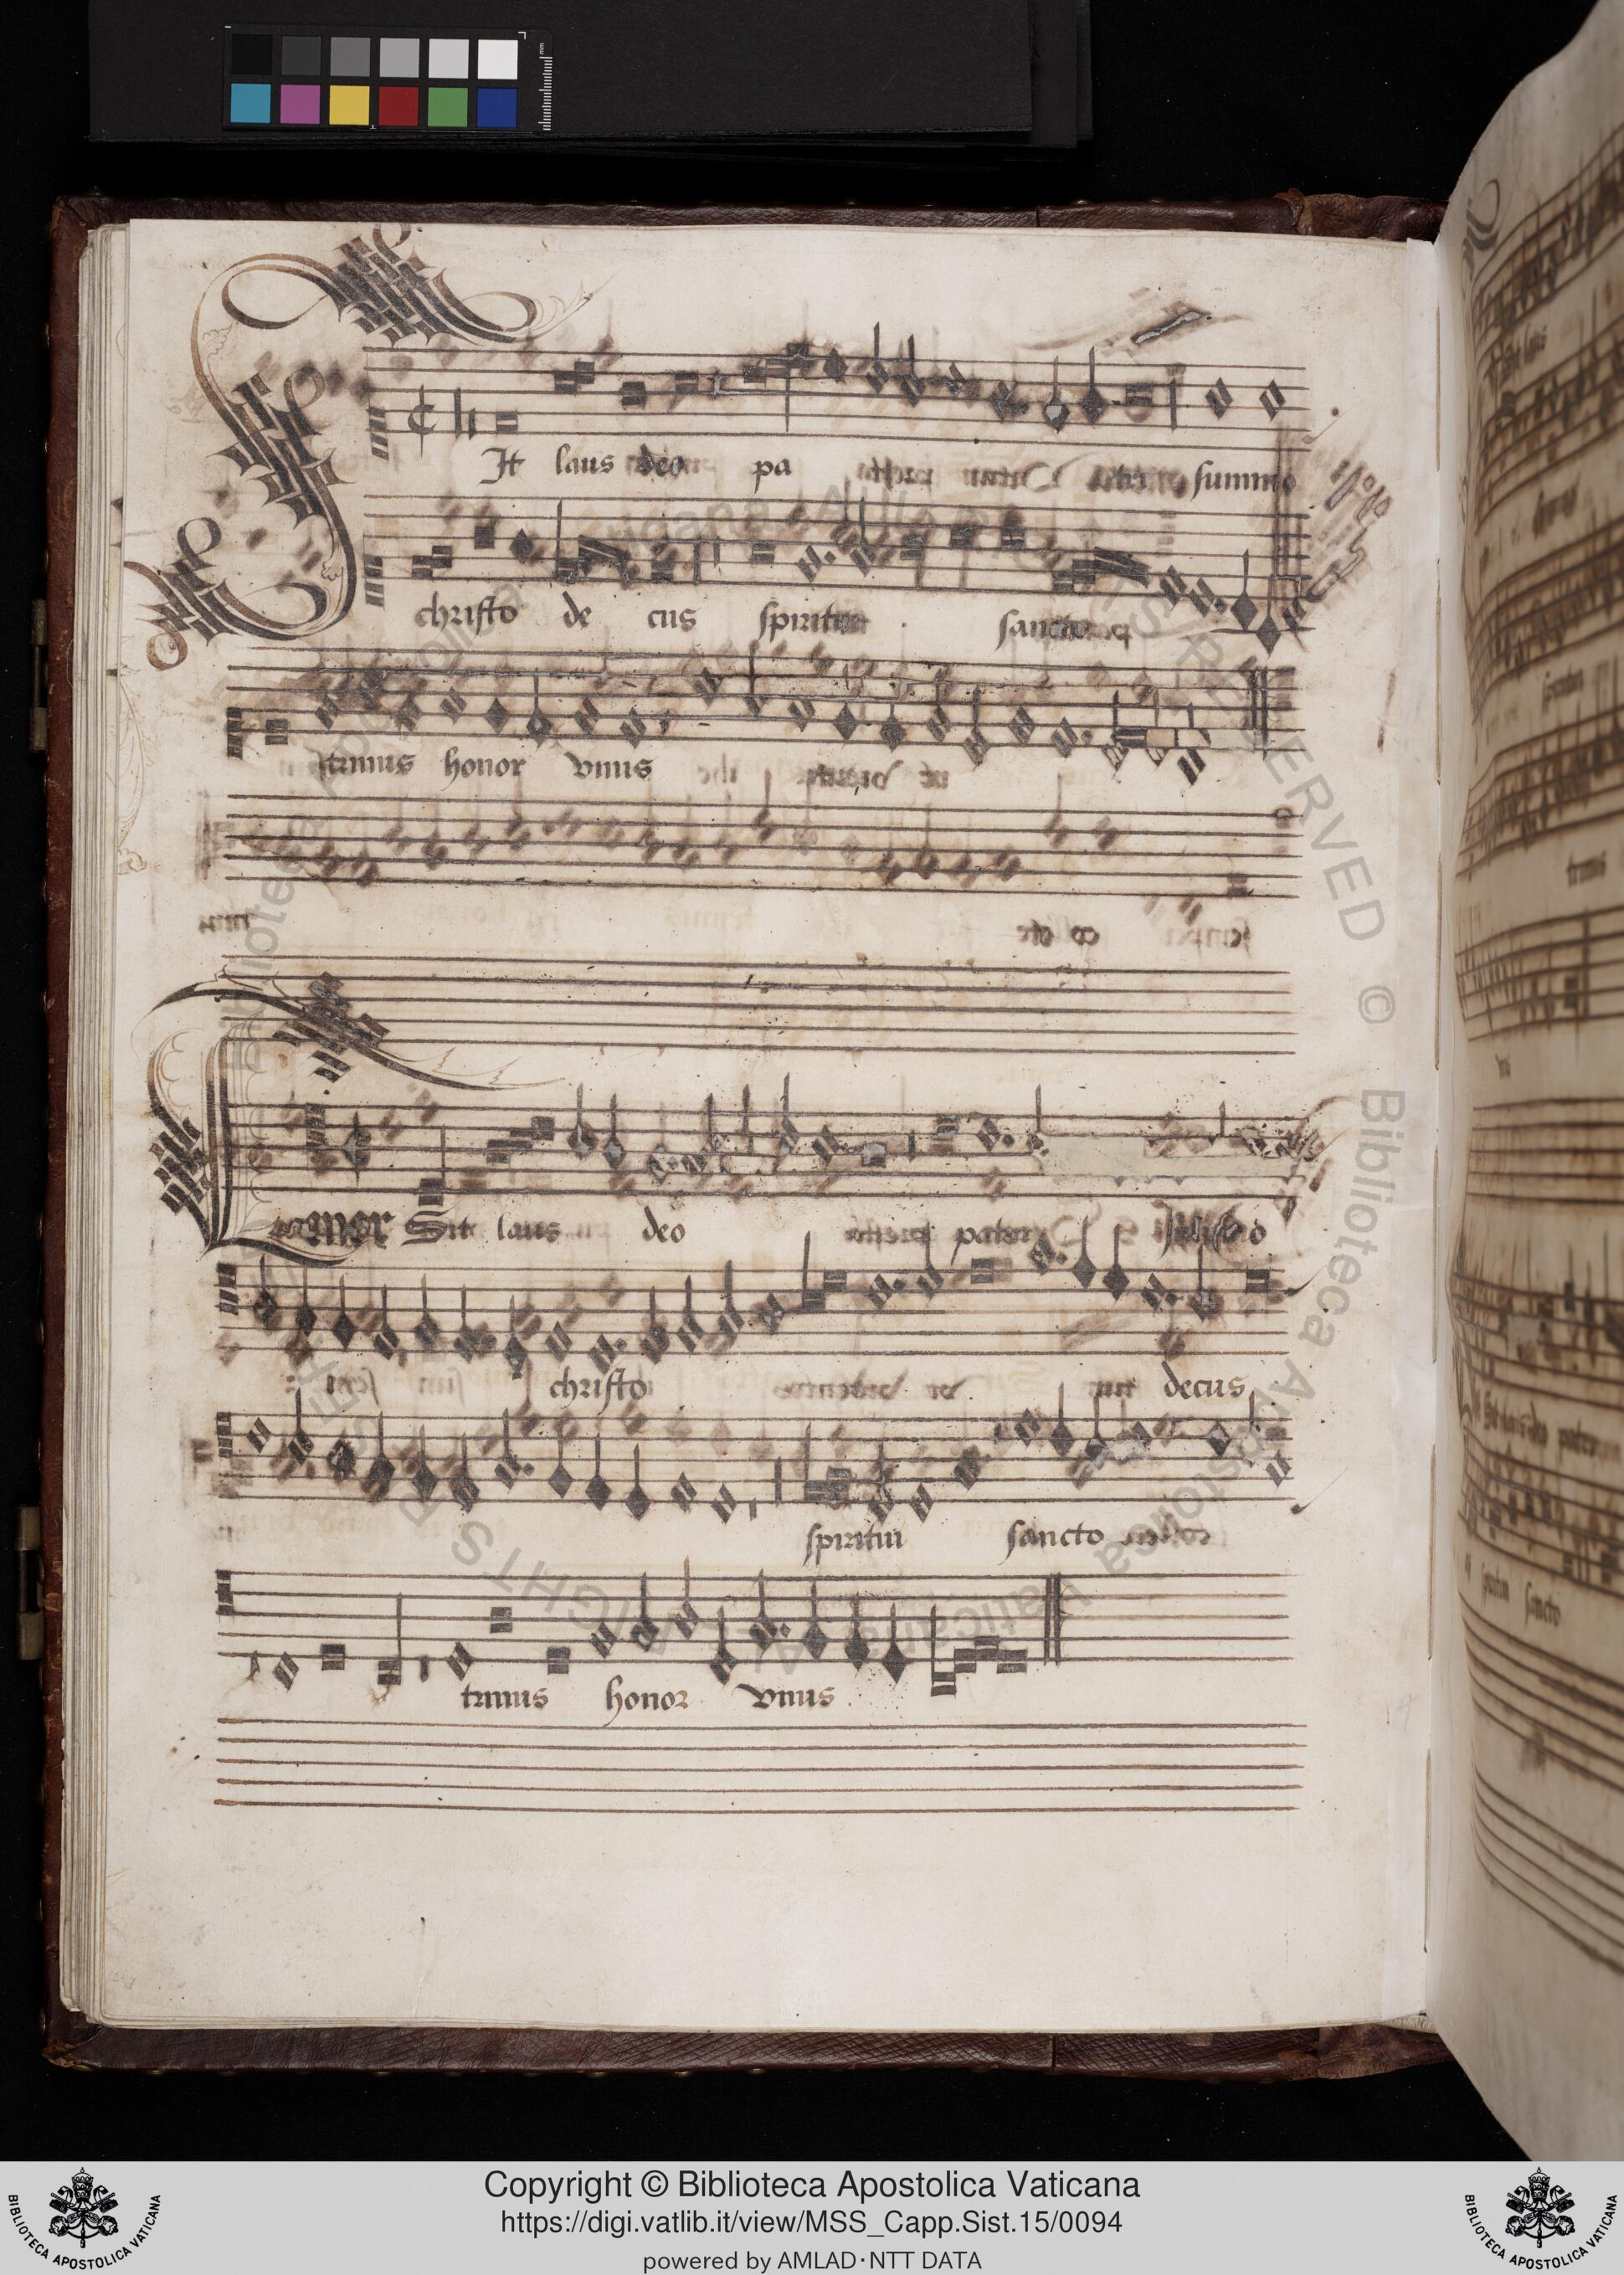barline: (1035, 1555, 1070, 1683)
breve_11: (309, 1621, 359, 1685), (531, 1632, 584, 1688)
breve_7: (478, 1593, 524, 1648)
c clef_5: (206, 1544, 244, 1644)
l1semibreve_12: (923, 1590, 953, 1701)
l2breve_10: (970, 1632, 1005, 1669)
l2breve_11: (991, 1636, 1026, 1683)
l2semibreve_11: (947, 1643, 977, 1681)
longa_12: (369, 1581, 413, 1699)
minim_11: (707, 1586, 738, 1692)
minim_7: (670, 1546, 707, 1658)
minim_8: (622, 1555, 663, 1671), (745, 1553, 775, 1658)
point: (766, 1606, 798, 1648)
semibreve rest: (411, 1565, 438, 1695), (241, 1564, 265, 1697)
semibreve_11: (438, 1629, 480, 1692)
semibreve_12: (265, 1634, 308, 1704)
semibreve_9: (582, 1607, 622, 1671)
semiminim_10: (838, 1578, 872, 1683)
semiminim_11: (875, 1586, 910, 1695)
semiminim_9: (796, 1565, 830, 1674)
